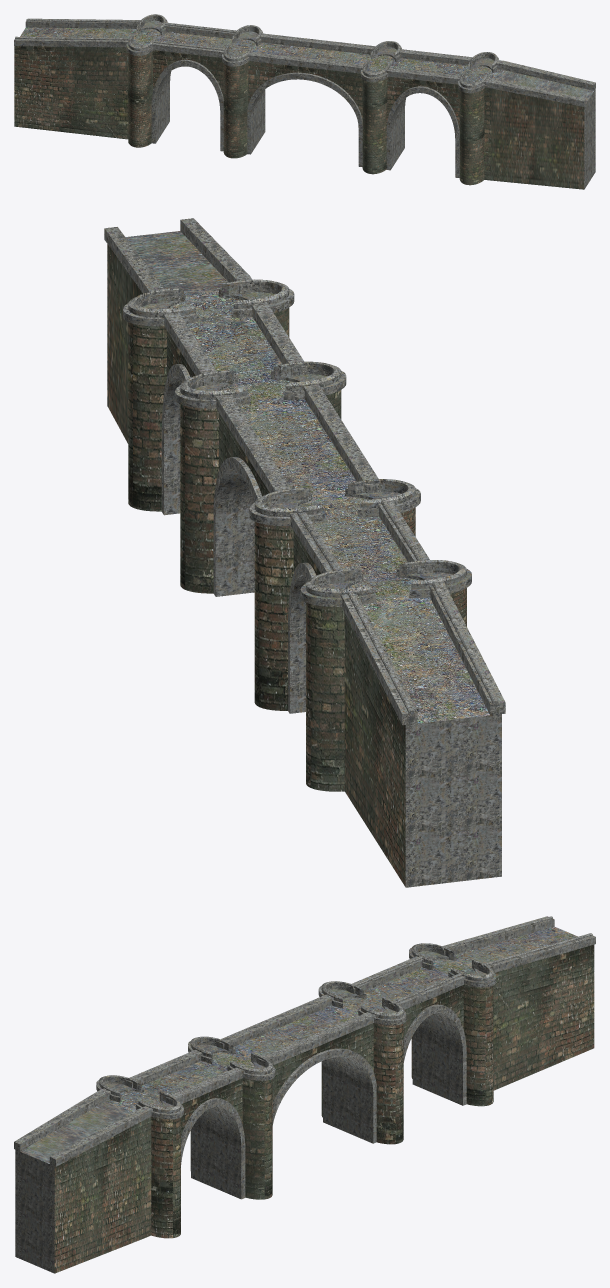
Rendered from SM_Bridge.glb.
The picture shows the model from 3 angles, top to bottom: view 1: azimuth 30°, elevation 25°; view 2: azimuth 150°, elevation 25°; view 3: azimuth 270°, elevation 25°; orthographic projection. The views are drawn at different scales.
Parts seen in each view (by area): view 1: SM_Bridge; view 2: SM_Bridge; view 3: SM_Bridge.
Part boxes in pixels (bbox=[...]): SM_Bridge: bbox=[14, 14, 595, 189]; SM_Bridge: bbox=[104, 218, 505, 887]; SM_Bridge: bbox=[14, 916, 595, 1273].
Bounding box in the file's own units: 0.215 × 0.0528 × 0.215.
3 materials, 3 textured.
